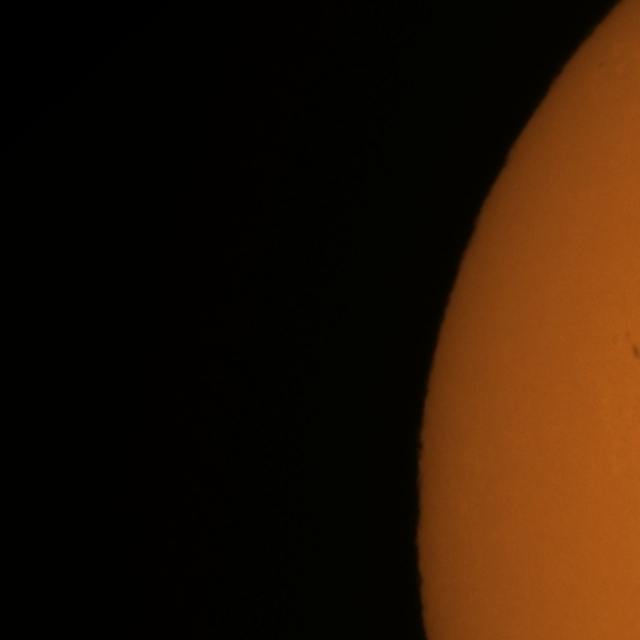sunspot: (632, 341, 640, 362)
